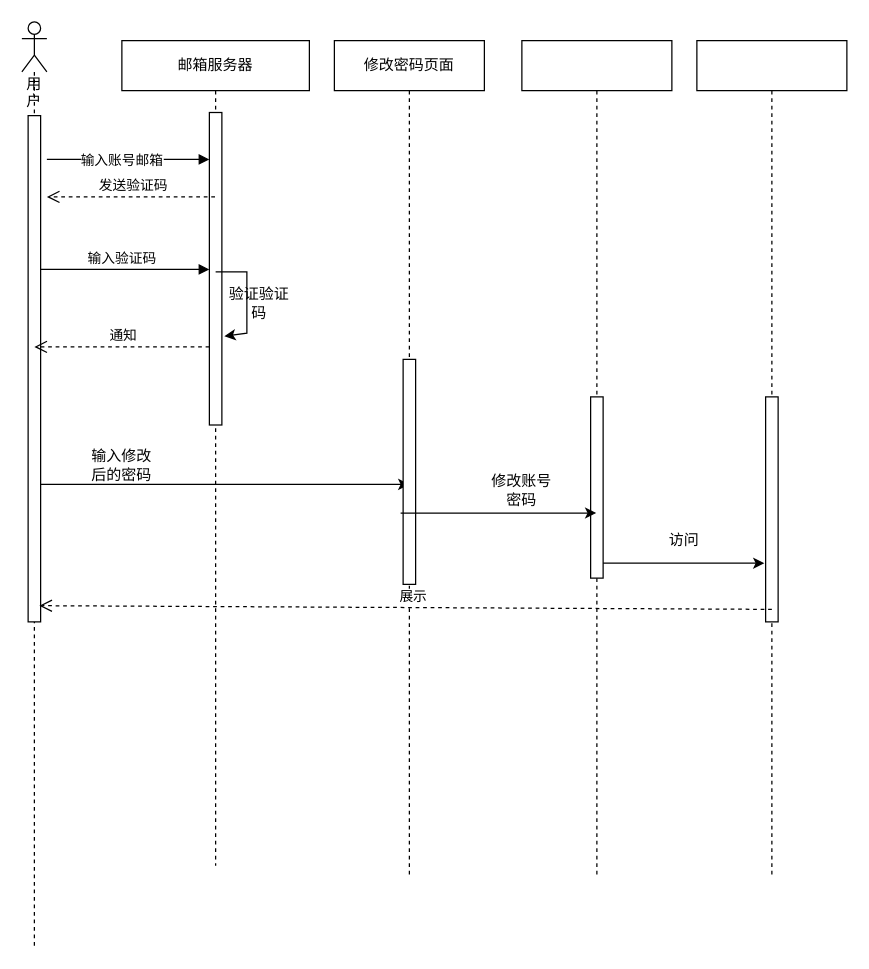
The diagram is 869 pixels wide and 969 high, and some of its shapes have lost their labels. The box of each missing label's shape, as (x1, y1, x2, y2) in pixels:
登陆页面: (696, 39, 847, 878)
账号数据库: (521, 39, 672, 878)
